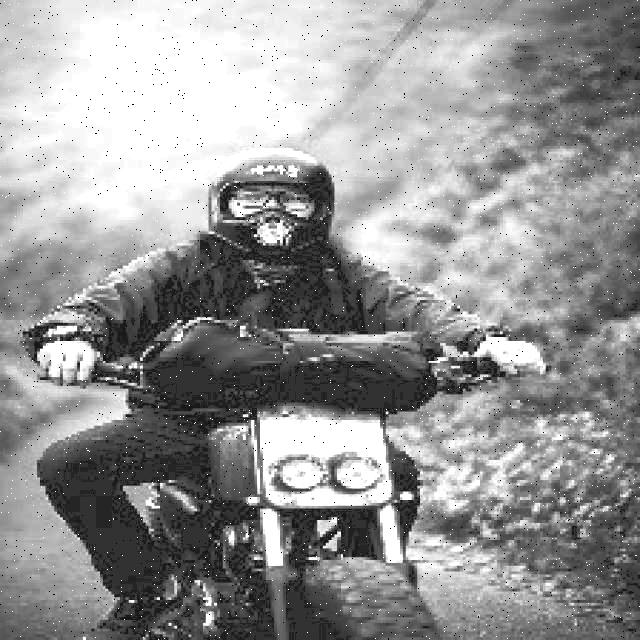Bike: (164, 400, 457, 640)
